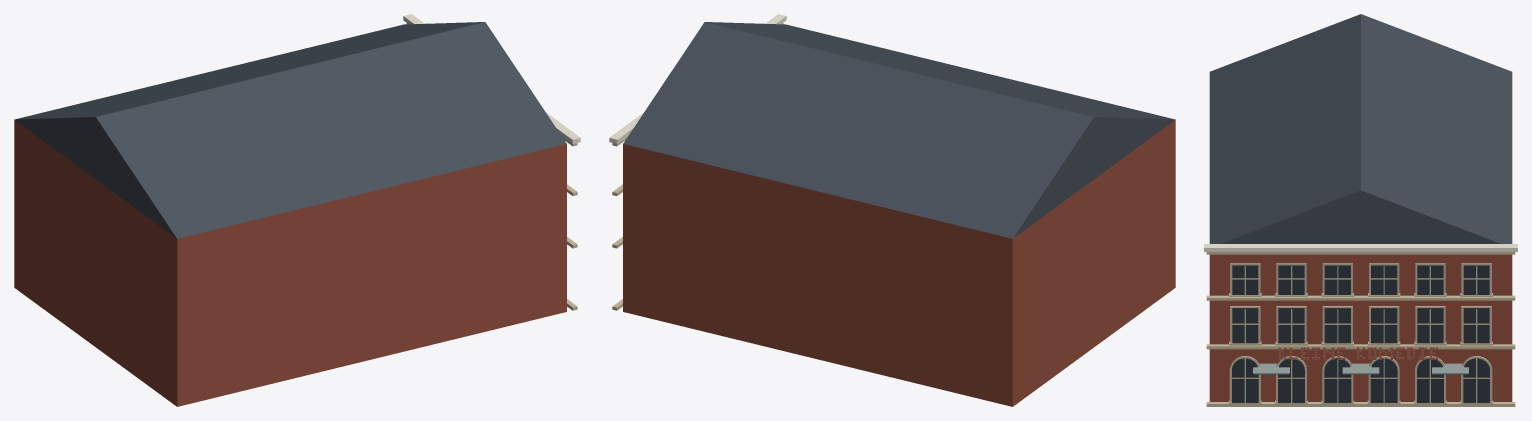
File: kleine-komedie.glb
3 renders of one model, left to right at view 1: azimuth 30°, elevation 25°; view 2: azimuth 150°, elevation 25°; view 3: azimuth 270°, elevation 25°, orthographic. The views are drawn at different scales.
Parts seen in each view (by area): view 1: kleine-komedie; view 2: kleine-komedie; view 3: kleine-komedie.
Part boxes in pixels (bbox=[...]): kleine-komedie: bbox=[14, 14, 580, 406]; kleine-komedie: bbox=[609, 14, 1175, 406]; kleine-komedie: bbox=[1204, 14, 1517, 406].
Size of the model in its own units: 34.67 by 18.5 by 24.62.
